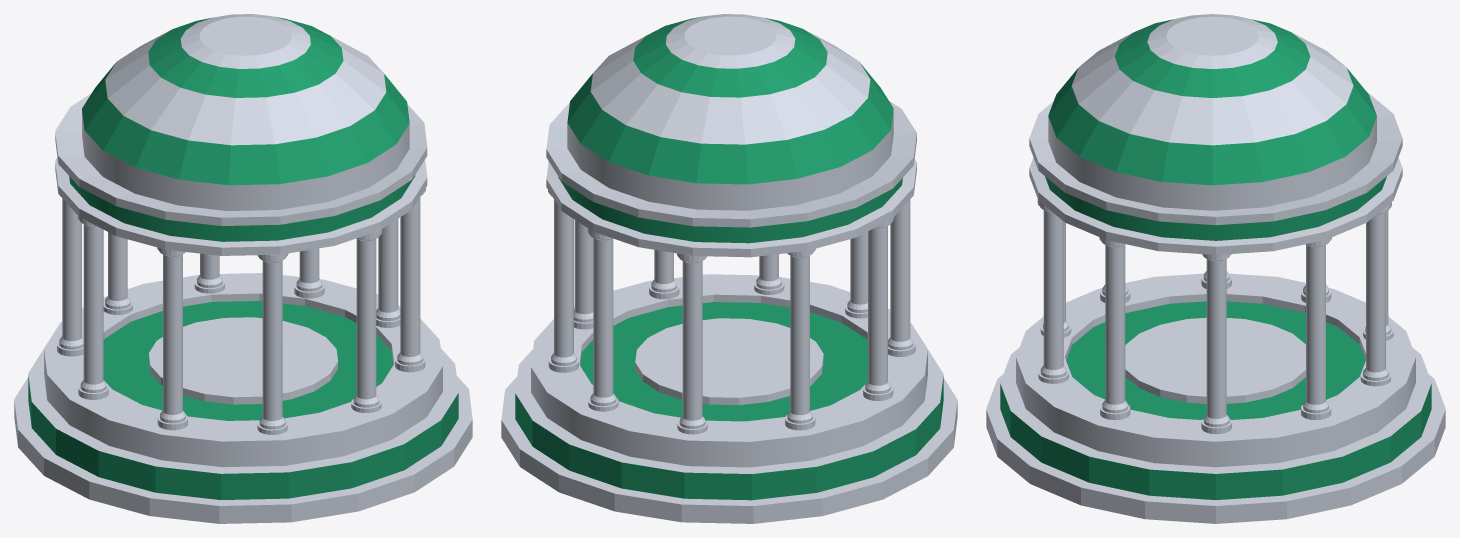
The model's file is Shrine.fbx.
The picture shows the model from 3 angles, left to right: view 1: azimuth 30°, elevation 25°; view 2: azimuth 150°, elevation 25°; view 3: azimuth 270°, elevation 25°; orthographic projection.
Visible parts, largest first — view 1: pCylinder223; view 2: pCylinder223; view 3: pCylinder223.
Boxes of the visible parts, x1=… form: pCylinder223: x1=14, y1=14, x2=472, y2=523; pCylinder223: x1=501, y1=14, x2=957, y2=523; pCylinder223: x1=986, y1=14, x2=1445, y2=523.
Bounding box in the file's own units: 1.84 × 1.73 × 1.84.
